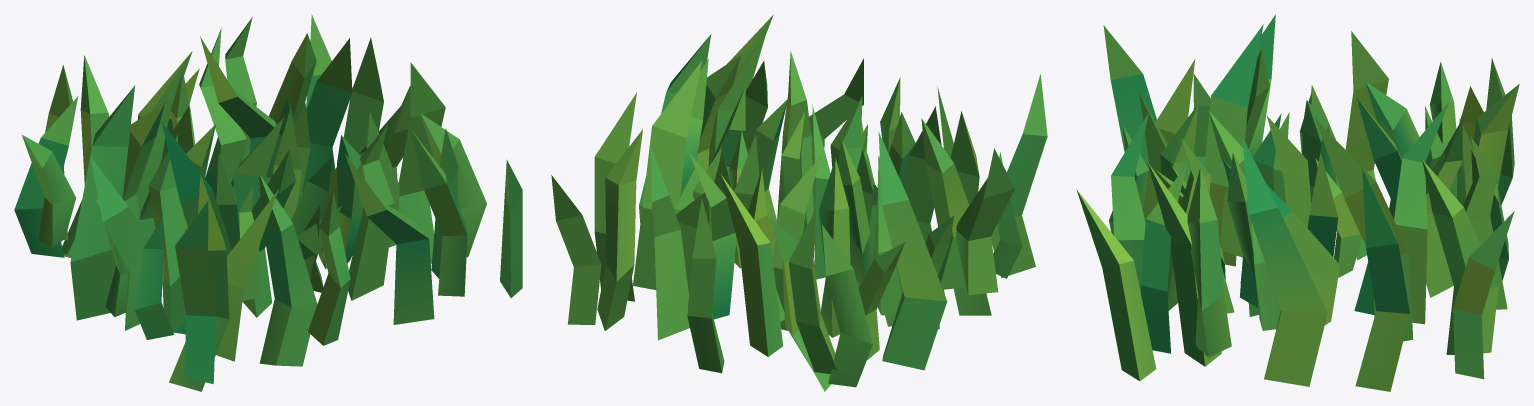
Rendered from CESPED.fbx.
3 renders of one model, left to right at view 1: azimuth 30°, elevation 25°; view 2: azimuth 150°, elevation 25°; view 3: azimuth 270°, elevation 25°, orthographic. The views are drawn at different scales.
Parts seen in each view (by area): view 1: maceta; view 2: maceta; view 3: maceta.
Part boxes in pixels (x1=…): maceta: x1=14, y1=14, x2=522, y2=391; maceta: x1=551, y1=14, x2=1047, y2=391; maceta: x1=1076, y1=14, x2=1519, y2=391.
Size of the model in its own units: 108 by 107 by 69.12.
1 material, 1 textured.
